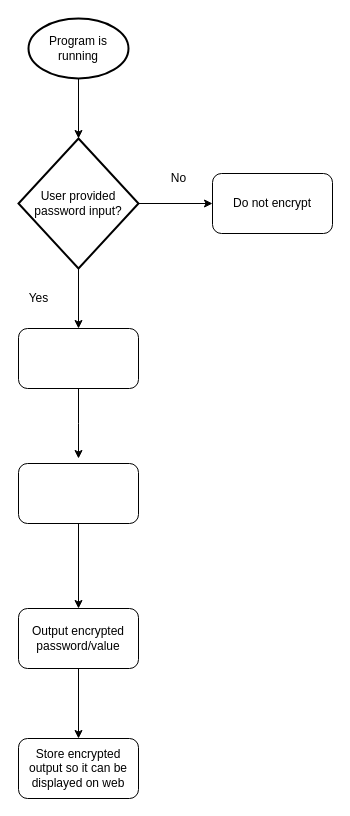
This 350x816 diagram has some shape labels left out. The shapes that lost their labels are listed below. From the top down, each one's centre as x and y in pixels, then its label:
(78,358): Call the gateways encryption method
(78,493): Encrypt using input and the generated seed
